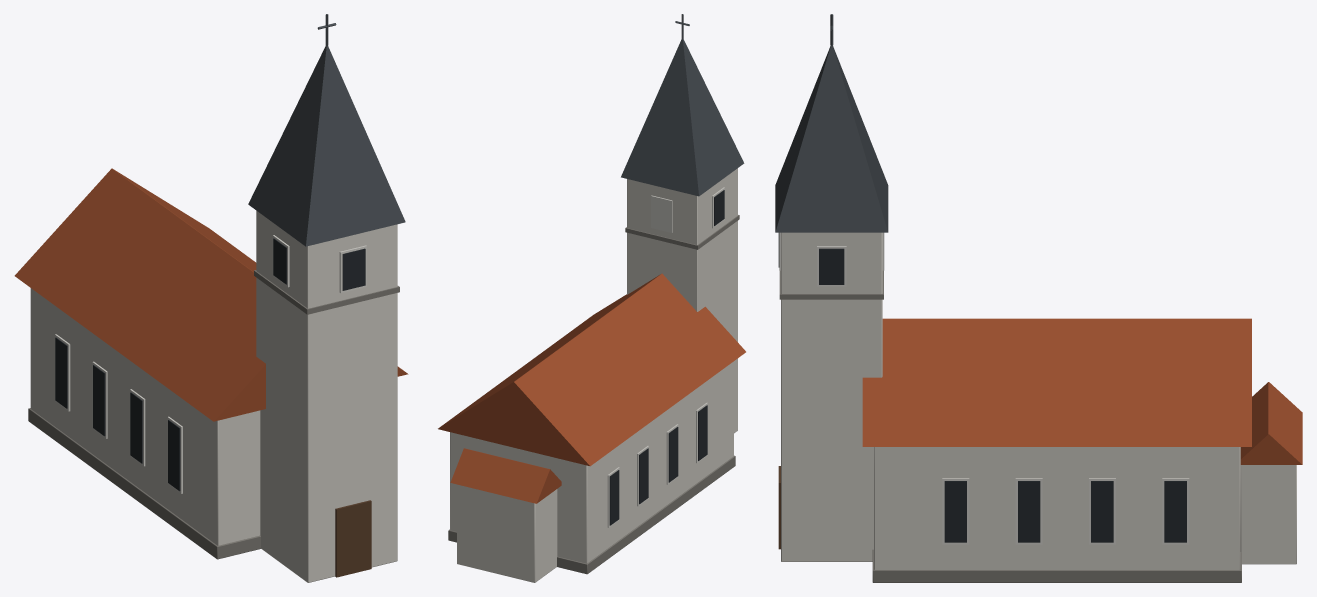
File: Scenery_Church.fbx
The picture shows the model from 3 angles, left to right: view 1: azimuth 30°, elevation 25°; view 2: azimuth 150°, elevation 25°; view 3: azimuth 270°, elevation 25°; orthographic projection. The views are drawn at different scales.
Parts seen in each view (by area): view 1: Scenery_Church_Mesh; view 2: Scenery_Church_Mesh; view 3: Scenery_Church_Mesh.
Part boxes in pixels (box(x1,y1,x2,y2)): Scenery_Church_Mesh: box(14, 14, 408, 582); Scenery_Church_Mesh: box(438, 14, 745, 582); Scenery_Church_Mesh: box(775, 14, 1302, 582).
Bounding box in the file's own units: 7.8 × 20.6 × 18.7.
